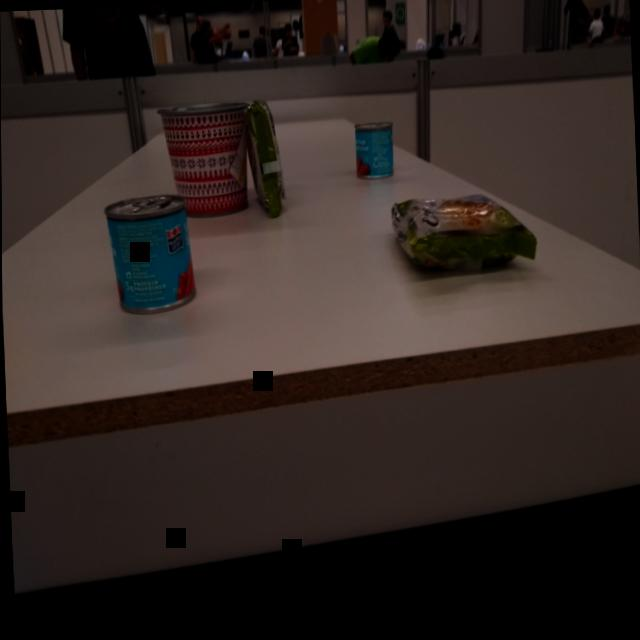noodles: (387, 187, 540, 286), (235, 92, 290, 225)
sausages: (99, 189, 199, 322), (351, 119, 397, 181)
